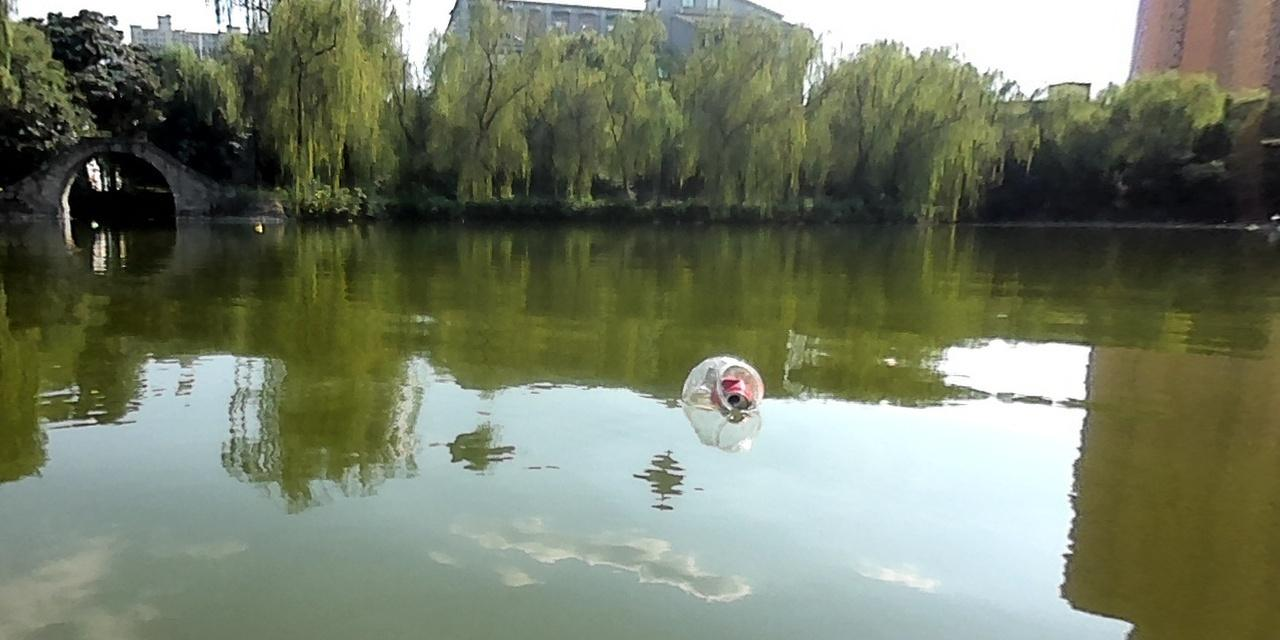bottle: (680, 353, 762, 411)
